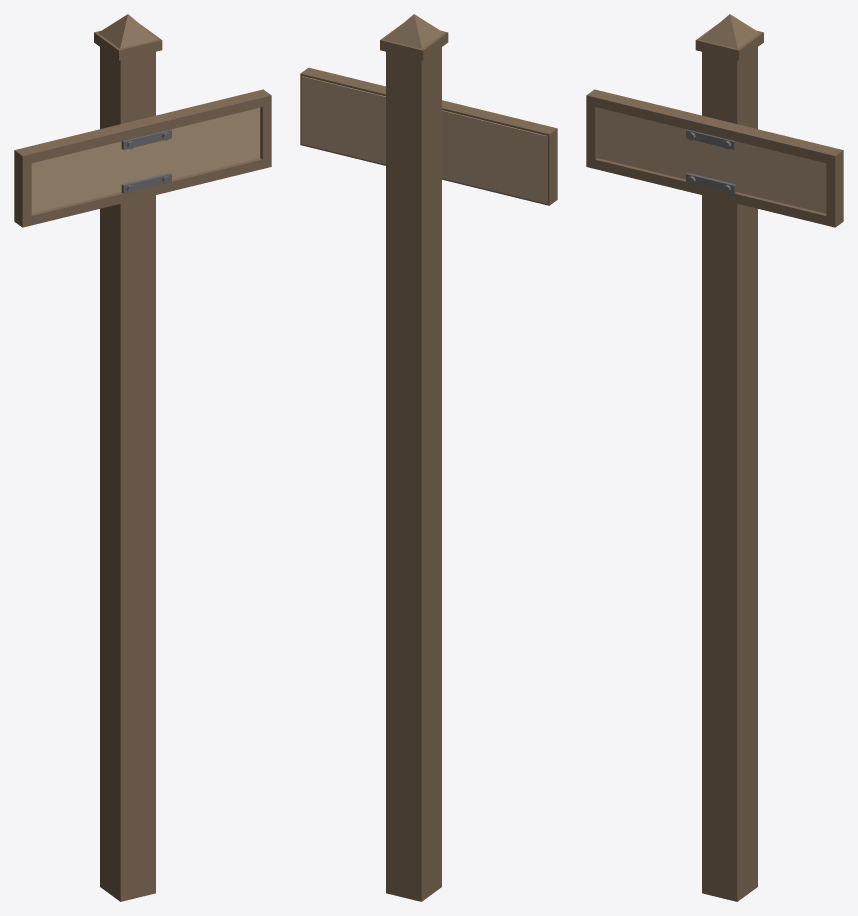
The model's file is street_post_55147214.glb.
3 views of the same model, side by side, from view 1: azimuth 30°, elevation 25°; view 2: azimuth 150°, elevation 25°; view 3: azimuth 330°, elevation 25° (orthographic).
Parts seen in each view (by area): view 1: street_post; view 2: street_post; view 3: street_post.
Part boxes in pixels (x1=…): street_post: x1=14, y1=14, x2=271, y2=901; street_post: x1=300, y1=14, x2=557, y2=901; street_post: x1=586, y1=14, x2=843, y2=901.
Bounding box in the file's own units: 0.772 × 2.6 × 0.182.
